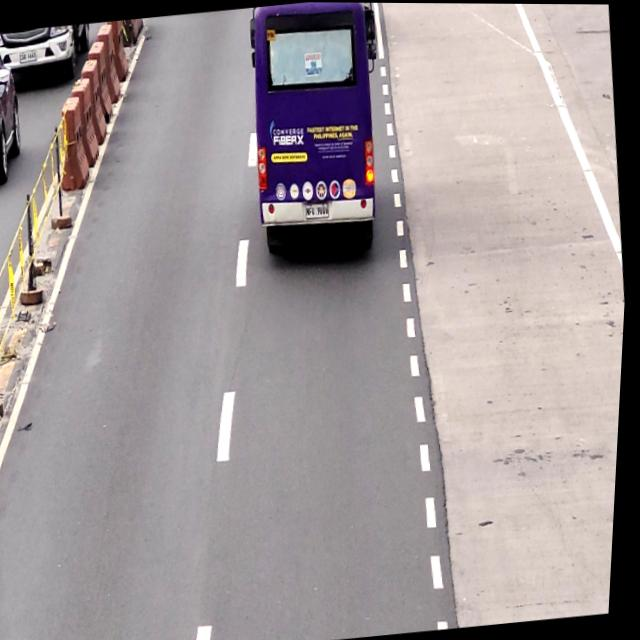Bus: (238, 1, 391, 252)
License-Plate: (306, 198, 335, 222)
